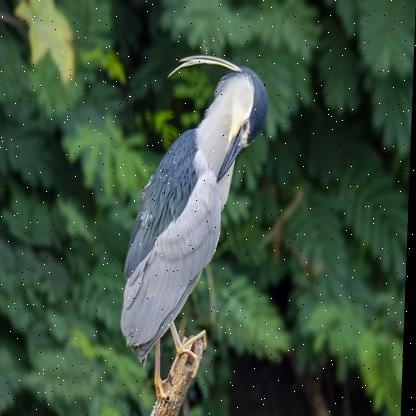Burung: (121, 48, 272, 401)
